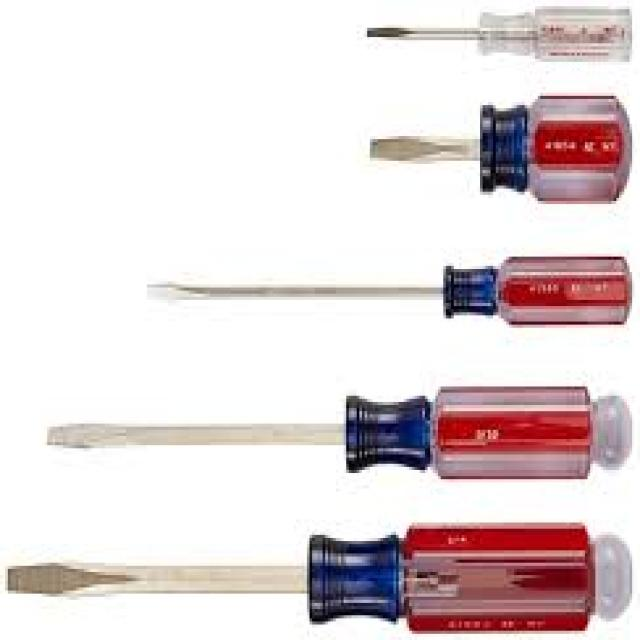screw driver: (0, 513, 640, 640), (32, 363, 640, 490), (121, 220, 640, 338), (342, 78, 640, 217)
